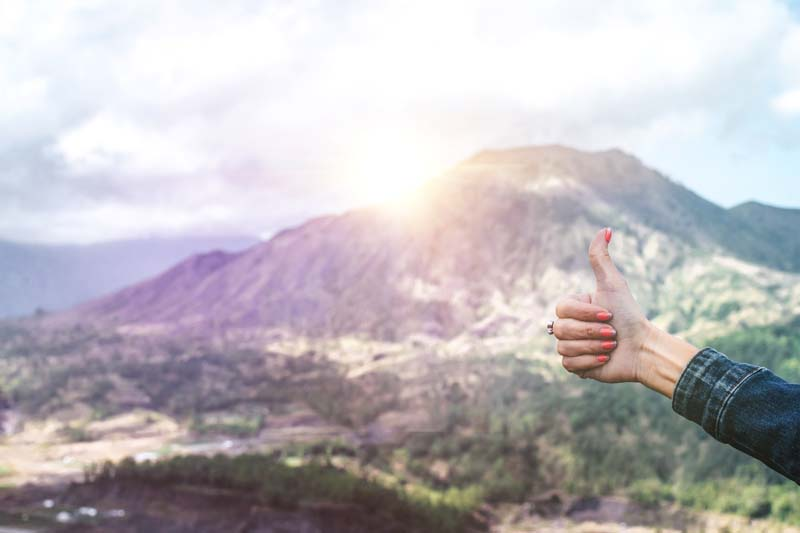Thumbs Up: (542, 223, 658, 406)
